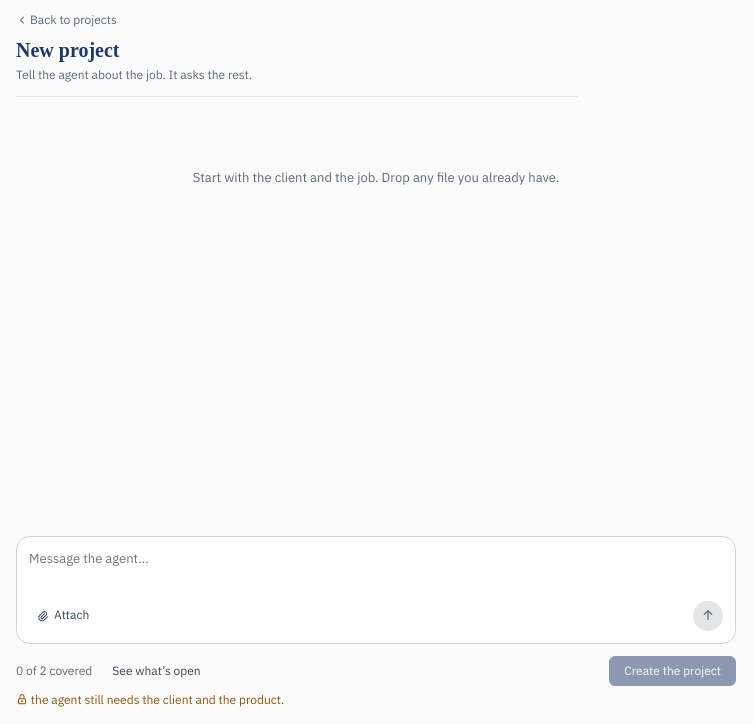
Test: the interview screen › lists what is open only when the operator asks
Click the button "See what’s open" at point(156, 671), box [104, 659, 209, 683]
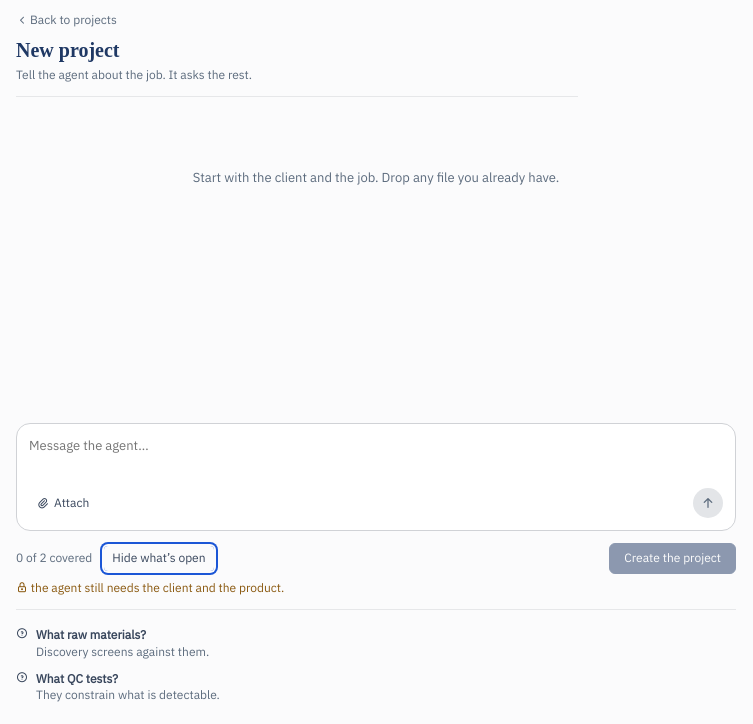
Check: the text "What QC tests?" is shown, box [36, 671, 118, 686]
